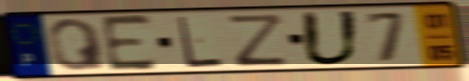7: (364, 10, 409, 64)
E: (98, 13, 160, 74)
L: (175, 14, 226, 70)
Q: (45, 17, 109, 73)
U: (298, 9, 363, 68)
Z: (226, 12, 291, 69)
